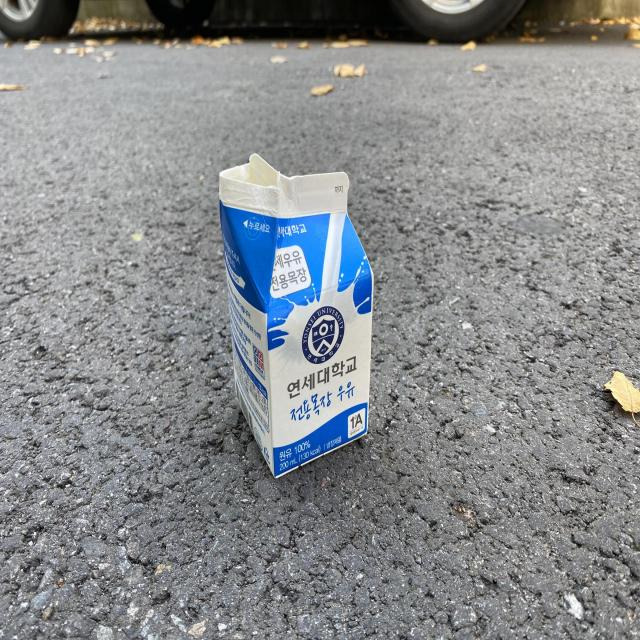paperpack: (219, 153, 373, 477)
